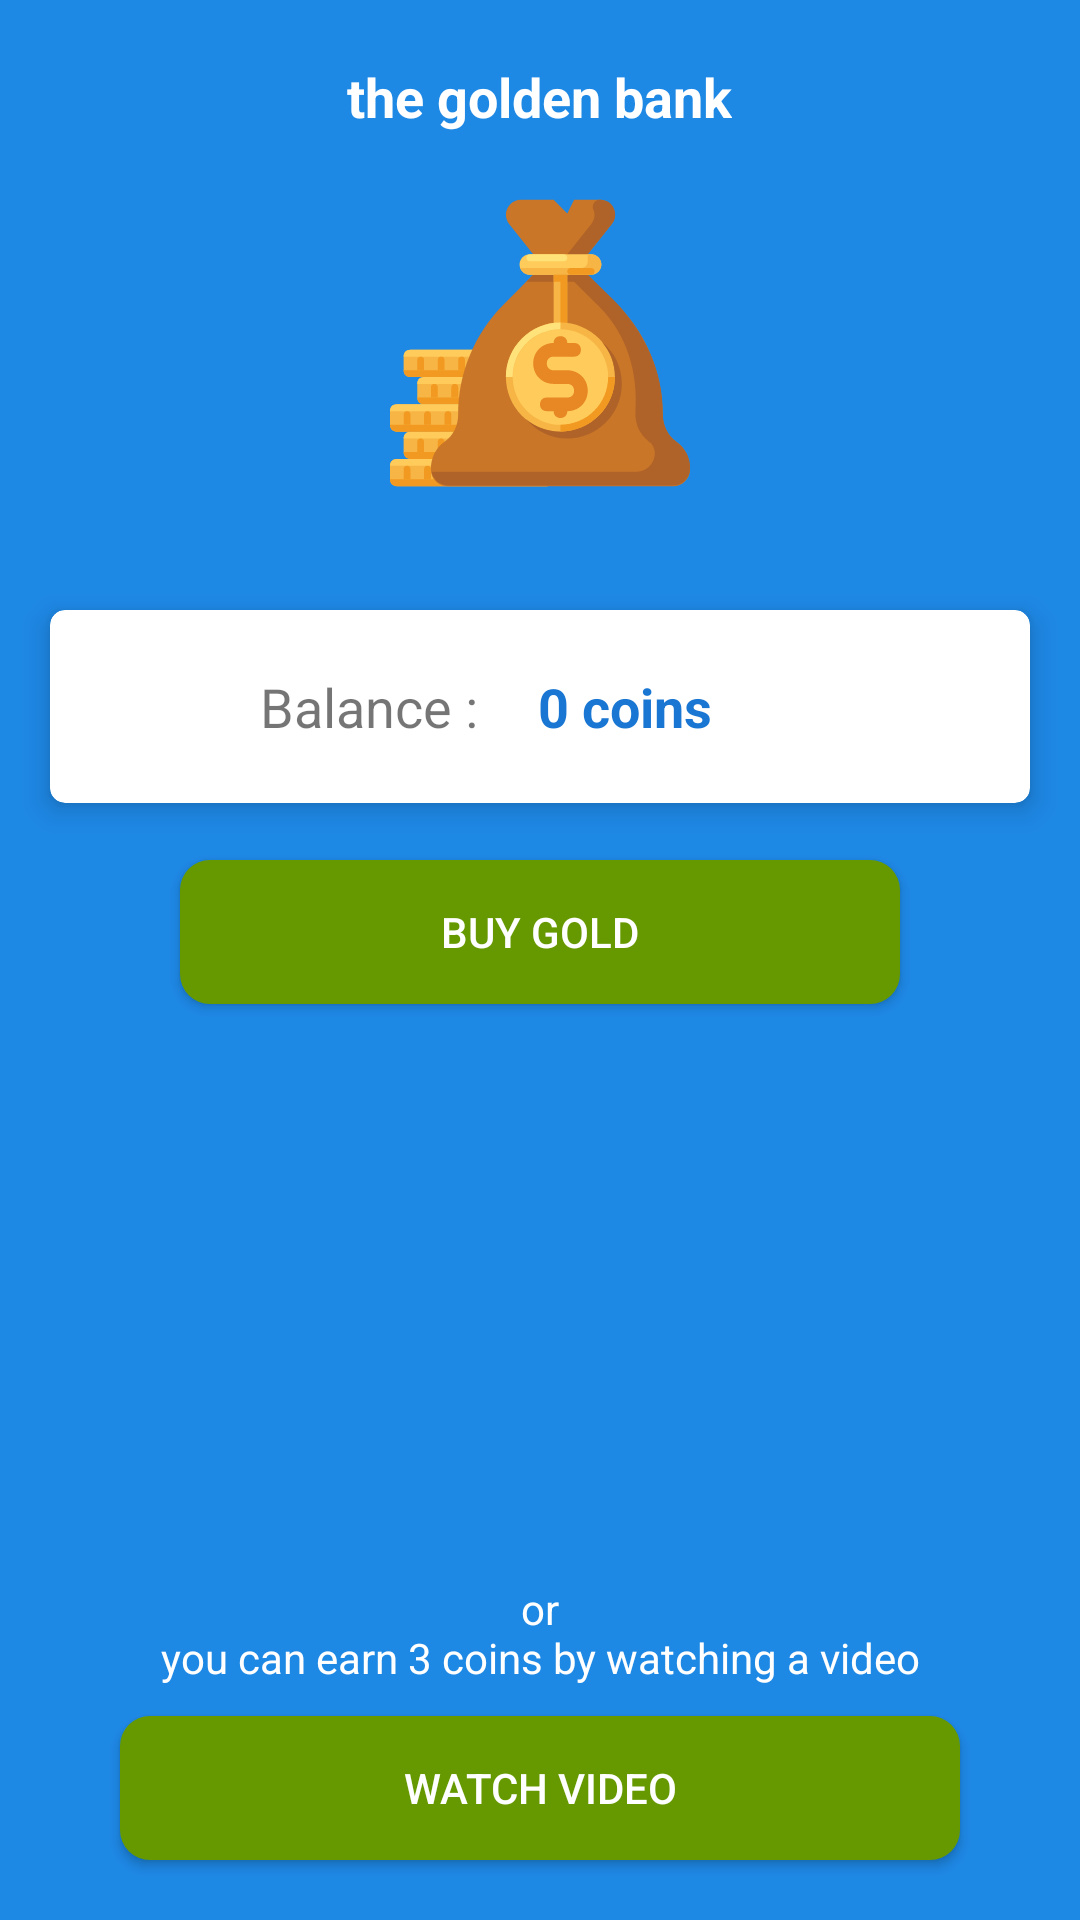

Icon click points for this 1080x1920 phone screenshot, format point (x, y):
gold bag: point (540, 343)
